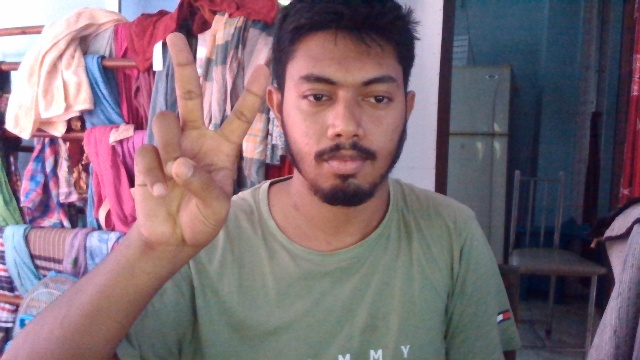thanks: (116, 23, 271, 252)
